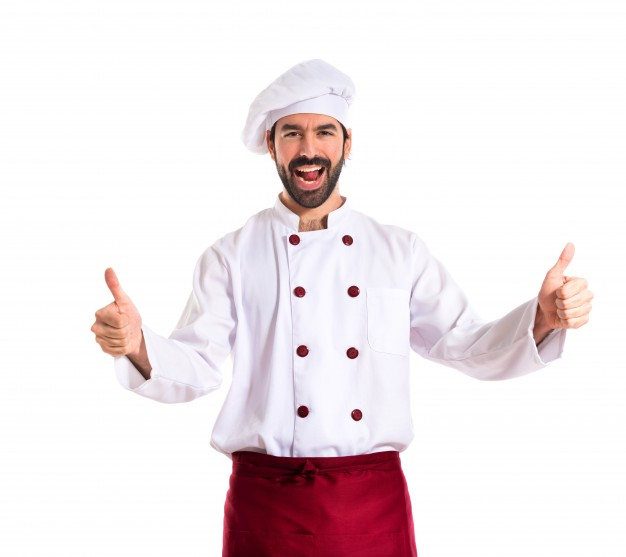thumbsup: (90, 268, 131, 356), (552, 242, 593, 329)
